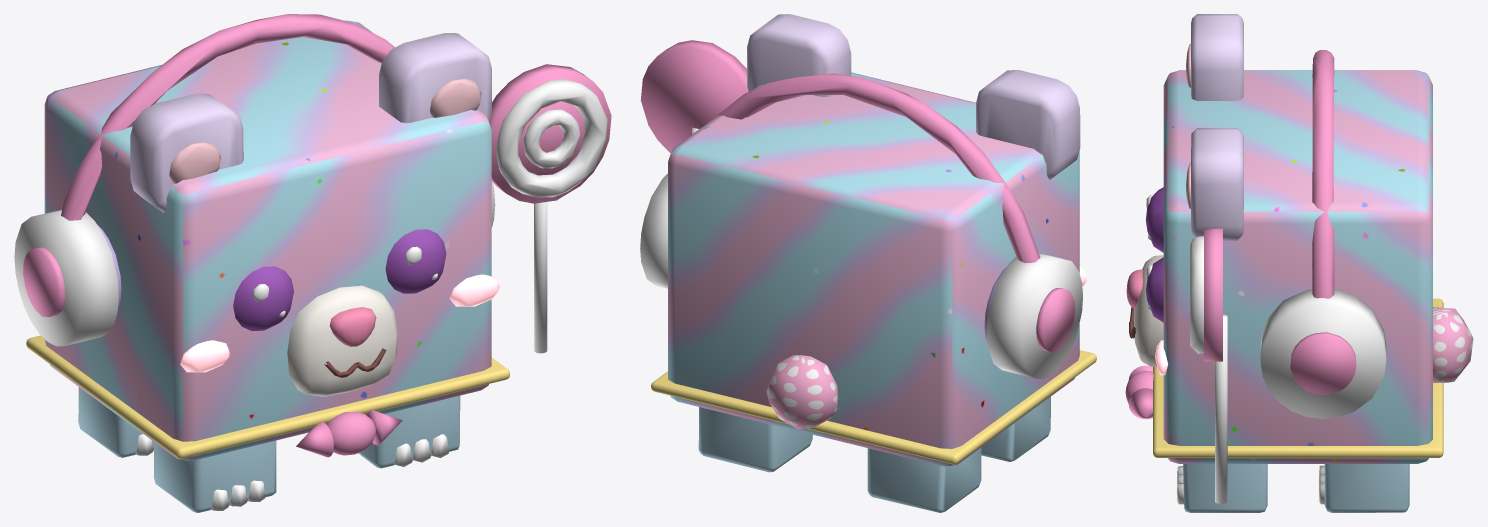
File: Pet_Zucker.fbx
The picture shows the model from 3 angles, left to right: view 1: azimuth 30°, elevation 25°; view 2: azimuth 150°, elevation 25°; view 3: azimuth 270°, elevation 25°; orthographic projection. The views are drawn at different scales.
Parts seen in each view (by area): view 1: Pet_Zucker_body, Pet_Zucker_ears, Pet_Zucker_feet, Pet_Zucker_acc_kopfhoerer_band, Pet_Zucker_acc_cup-1, Pet_Zucker_muzzle, Pet_Zucker_acc_kette, Pet_Zucker_acc_lolli_ring1, Pet_Zucker_eyes, Pet_Zucker_acc_lolli_scheibe, Pet_Zucker, Pet_Zucker_acc_cupdeckel-1 (+8 smaller); view 2: Pet_Zucker_body, Pet_Zucker_ears, Pet_Zucker_feet, Pet_Zucker_acc_kopfhoerer_band, Pet_Zucker_acc_lolli_scheibe, Pet_Zucker_acc_cup-1, Pet_Zucker_acc_kette, Pet_Zucker_cute_tail, Pet_Zucker_acc_cup1, Pet_Zucker_acc_cupdeckel-1; view 3: Pet_Zucker_body, Pet_Zucker_ears, Pet_Zucker_acc_cup1, Pet_Zucker_feet, Pet_Zucker_acc_kopfhoerer_band, Pet_Zucker_acc_kette, Pet_Zucker_acc_cupdeckel1, Pet_Zucker_acc_lolli_scheibe, Pet_Zucker_cute_tail, Pet_Zucker_acc_lolli_stiel, Pet_Zucker_eyes, Pet_Zucker_muzzle (+6 smaller).
Boxes of the visible parts, x1,y1,x2,y2 form: Pet_Zucker_body: [44, 20, 491, 460]; Pet_Zucker_ears: [130, 33, 491, 212]; Pet_Zucker_feet: [78, 387, 460, 512]; Pet_Zucker_acc_kopfhoerer_band: [61, 14, 394, 220]; Pet_Zucker_acc_cup-1: [14, 210, 118, 346]; Pet_Zucker_muzzle: [287, 285, 397, 396]; Pet_Zucker_acc_kette: [26, 335, 509, 458]; Pet_Zucker_acc_lolli_ring1: [495, 79, 607, 197]; Pet_Zucker_eyes: [233, 229, 446, 330]; Pet_Zucker_acc_lolli_scheibe: [489, 64, 611, 203]; Pet_Zucker: [405, 78, 499, 306]; Pet_Zucker_acc_cupdeckel-1: [23, 247, 65, 317]; Pet_Zucker_body: [668, 72, 1079, 466]; Pet_Zucker_ears: [747, 14, 1080, 179]; Pet_Zucker_feet: [698, 396, 1050, 512]; Pet_Zucker_acc_kopfhoerer_band: [716, 73, 1040, 262]; Pet_Zucker_acc_lolli_scheibe: [640, 40, 747, 152]; Pet_Zucker_acc_cup-1: [987, 252, 1082, 378]; Pet_Zucker_acc_kette: [651, 350, 1096, 464]; Pet_Zucker_cute_tail: [766, 355, 838, 429]; Pet_Zucker_acc_cup1: [640, 173, 667, 288]; Pet_Zucker_acc_cupdeckel-1: [1036, 288, 1074, 352]; Pet_Zucker_body: [1163, 70, 1432, 463]; Pet_Zucker_ears: [1191, 14, 1243, 240]; Pet_Zucker_acc_cup1: [1260, 289, 1386, 418]; Pet_Zucker_feet: [1183, 464, 1409, 512]; Pet_Zucker_acc_kopfhoerer_band: [1312, 50, 1334, 298]; Pet_Zucker_acc_kette: [1153, 298, 1443, 457]; Pet_Zucker_acc_cupdeckel1: [1290, 332, 1356, 395]; Pet_Zucker_acc_lolli_scheibe: [1204, 228, 1222, 361]; Pet_Zucker_cute_tail: [1433, 307, 1473, 382]; Pet_Zucker_acc_lolli_stiel: [1215, 314, 1227, 504]; Pet_Zucker_eyes: [1146, 187, 1163, 322]; Pet_Zucker_muzzle: [1134, 255, 1163, 367].
Bounding box in the file's own units: 3.51 × 2.71 × 2.22.
16 materials, 2 textured.
